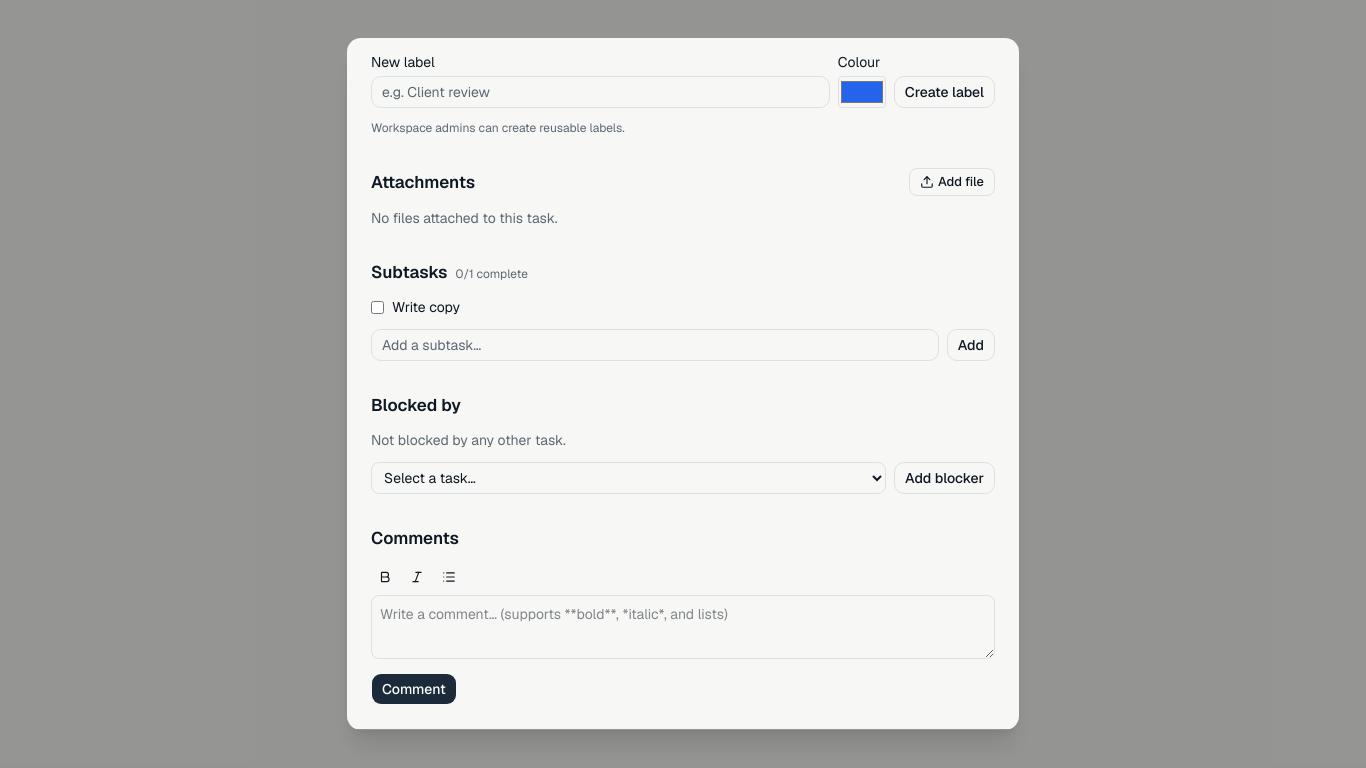
Test case: TaskDetailDialog dependencies › adds a blocking task from the candidate list
(page scrolled)
Select "Design API" in the dropdown named "Add blocking task": (629, 478) left=371, top=462, right=886, bottom=494
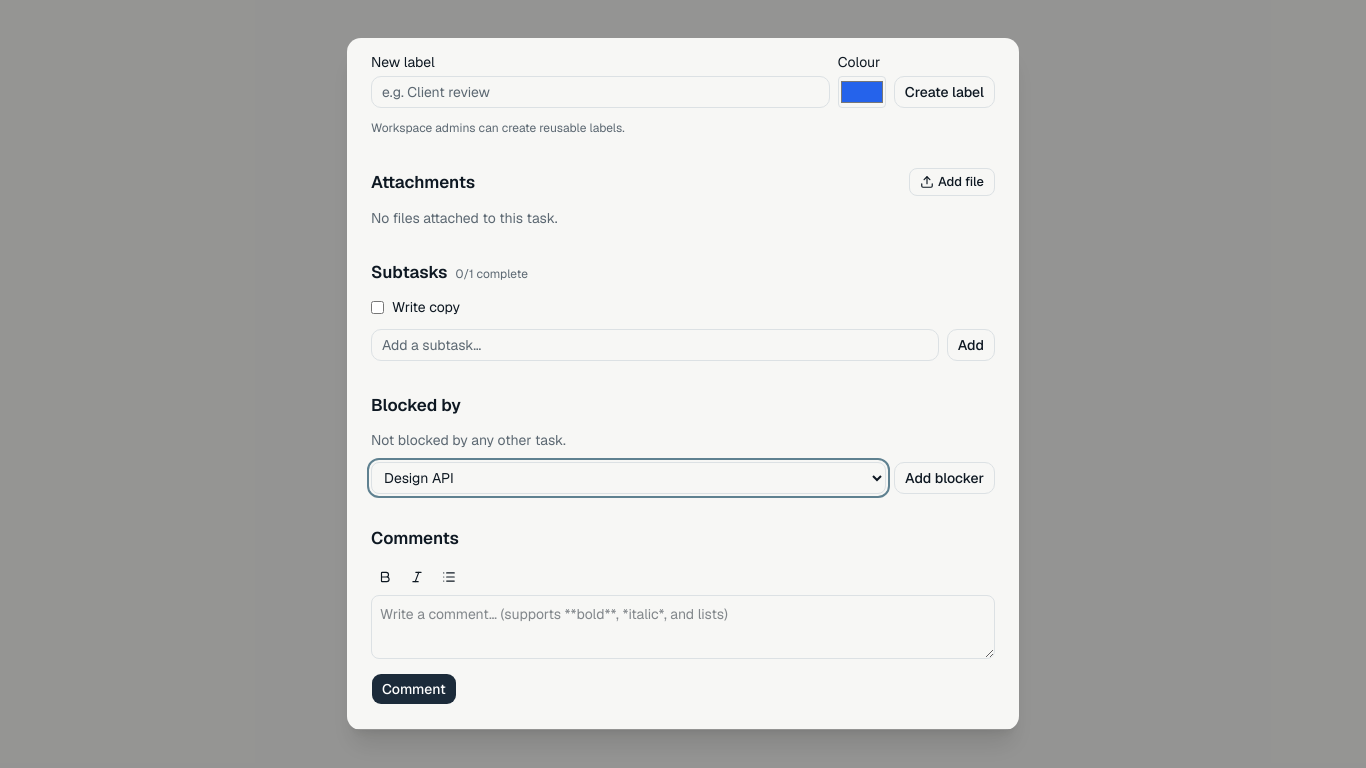
Click the button "Add blocker": (945, 478) left=894, top=462, right=995, bottom=494
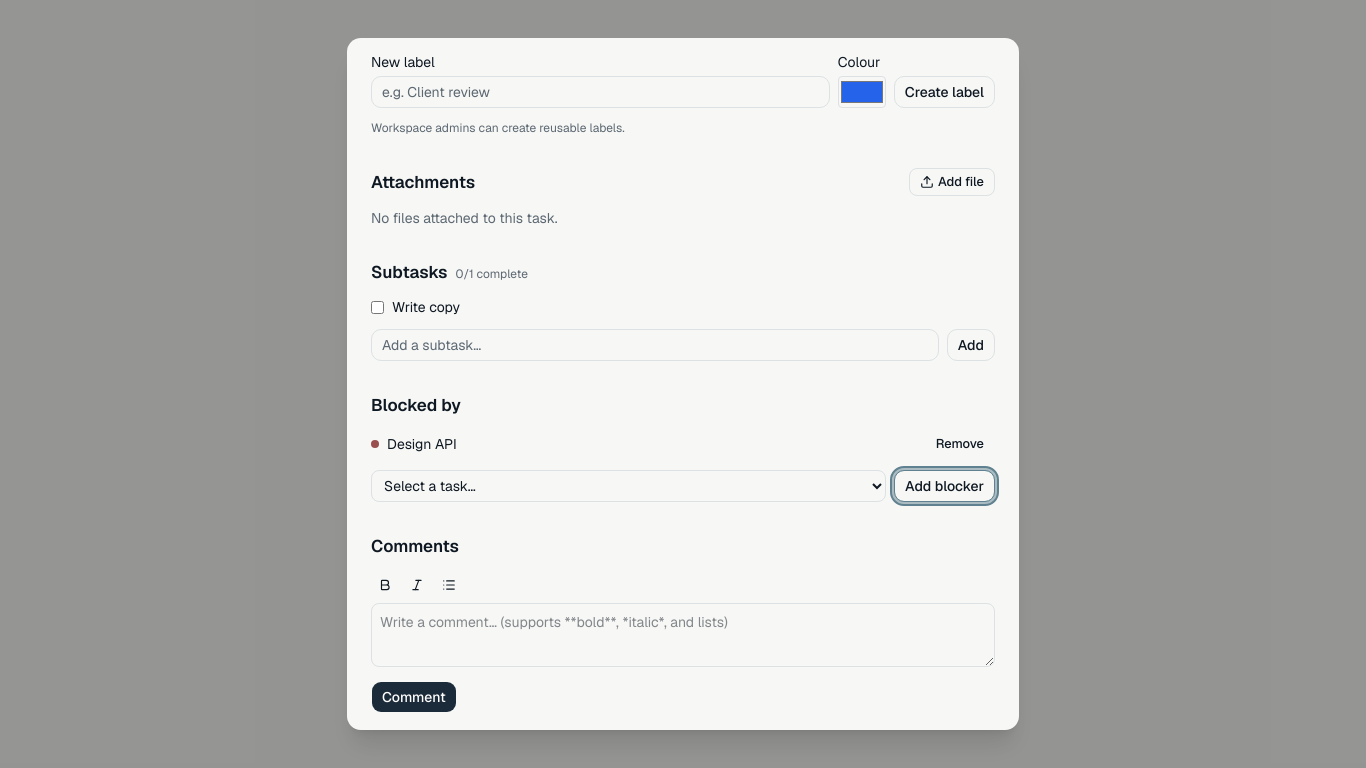
expect the text "Design API" is shown: met, box left=387, top=435, right=457, bottom=453
